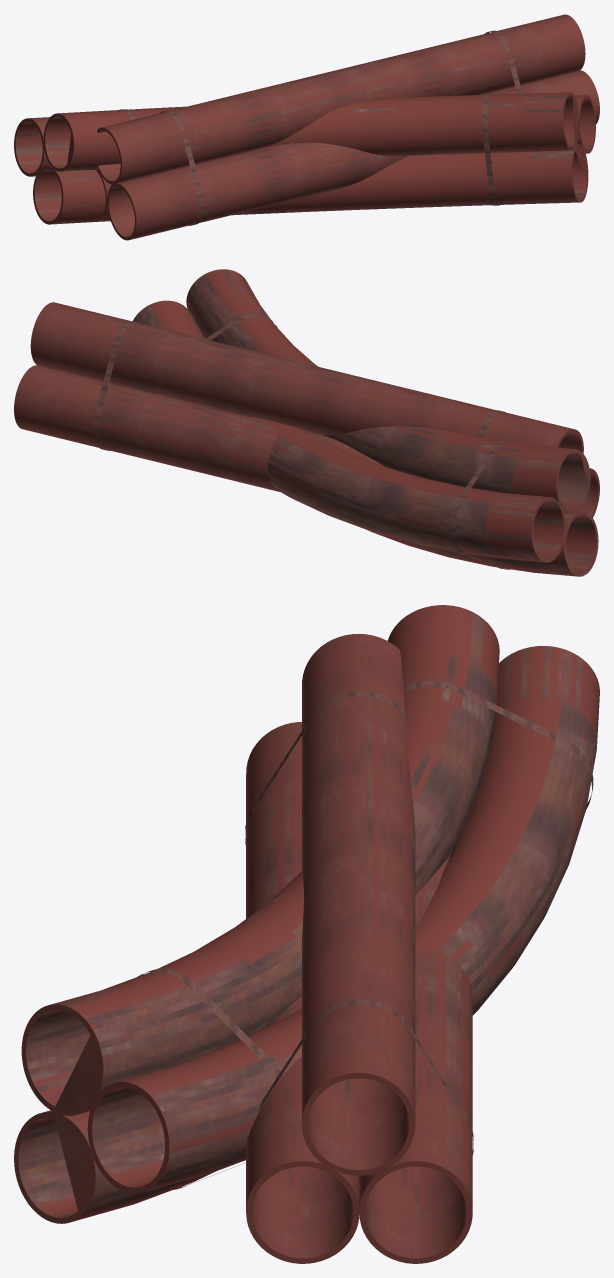
The model's file is Tubes.fbx.
3 renders of one model, top to bottom at view 1: azimuth 30°, elevation 25°; view 2: azimuth 150°, elevation 25°; view 3: azimuth 270°, elevation 25°, orthographic. The views are drawn at different scales.
Parts seen in each view (by area): view 1: Tube_S, Tube_B; view 2: Tube_S, Tube_B; view 3: Tube_B, Tube_S.
Part boxes in pixels (x1,y1,x2,y2): Tube_S: (95,14,599,240); Tube_B: (14,92,595,224); Tube_S: (14,302,599,517); Tube_B: (133,269,598,576); Tube_B: (14,605,599,1223); Tube_S: (245,633,473,1263).
Bounding box in the file's own units: 6.3 × 1.54 × 3.27.
